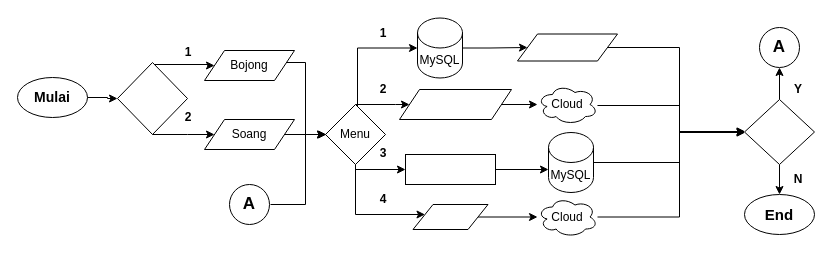
This 832x254 diagram has some shape labels left out. Here are the shapes that lost their labels. From the top down, the centre of each, then its label:
the point at 567,47: Show All List
the point at 152,98: Pilih Cabang
the point at 455,104: Broadcast Msg
the point at 779,131: Continue?
the point at 450,169: Perbaharui Info
the point at 450,217: Input Id
